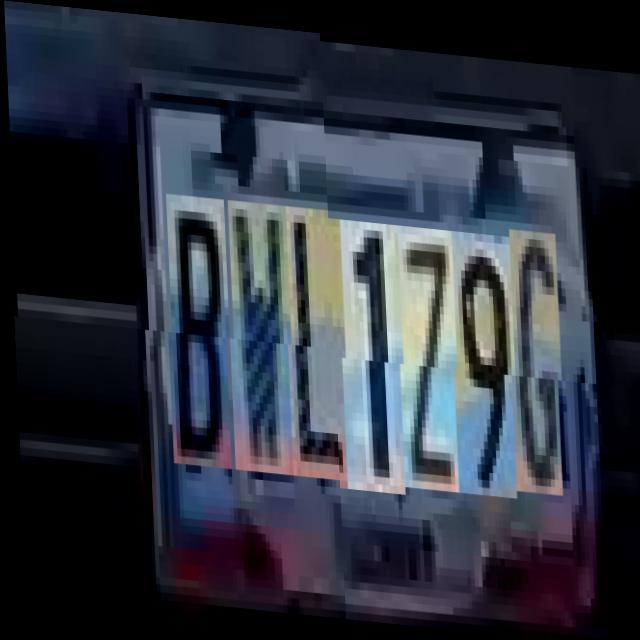1: (338, 212, 405, 487)
9: (450, 221, 517, 488)
B: (164, 198, 232, 473)
G: (508, 218, 564, 484)
L: (284, 208, 347, 482)
W: (226, 203, 293, 478)
Z: (396, 217, 459, 483)
